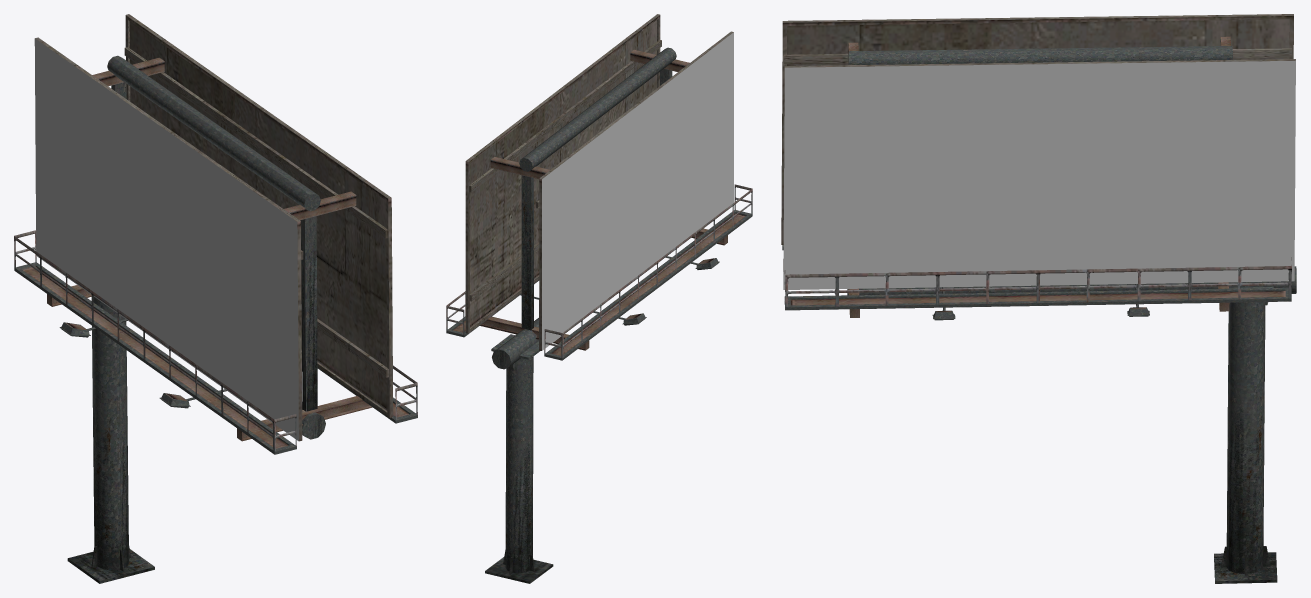
The model's file is BillboardB.FBX.
3 views of the same model, side by side, from view 1: azimuth 30°, elevation 25°; view 2: azimuth 150°, elevation 25°; view 3: azimuth 270°, elevation 25° (orthographic). The views are drawn at different scales.
Visible parts, largest first — view 1: BillboardB; view 2: BillboardB; view 3: BillboardB.
Boxes of the visible parts, x1,y1,x2,y2 form: BillboardB: (14, 14, 417, 583); BillboardB: (446, 14, 752, 583); BillboardB: (781, 14, 1296, 583).
Size of the model in its own units: 255 by 546 by 620.
